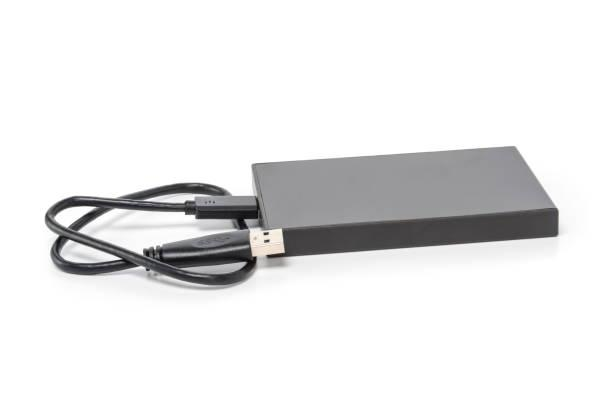HDD: (251, 146, 559, 257)
